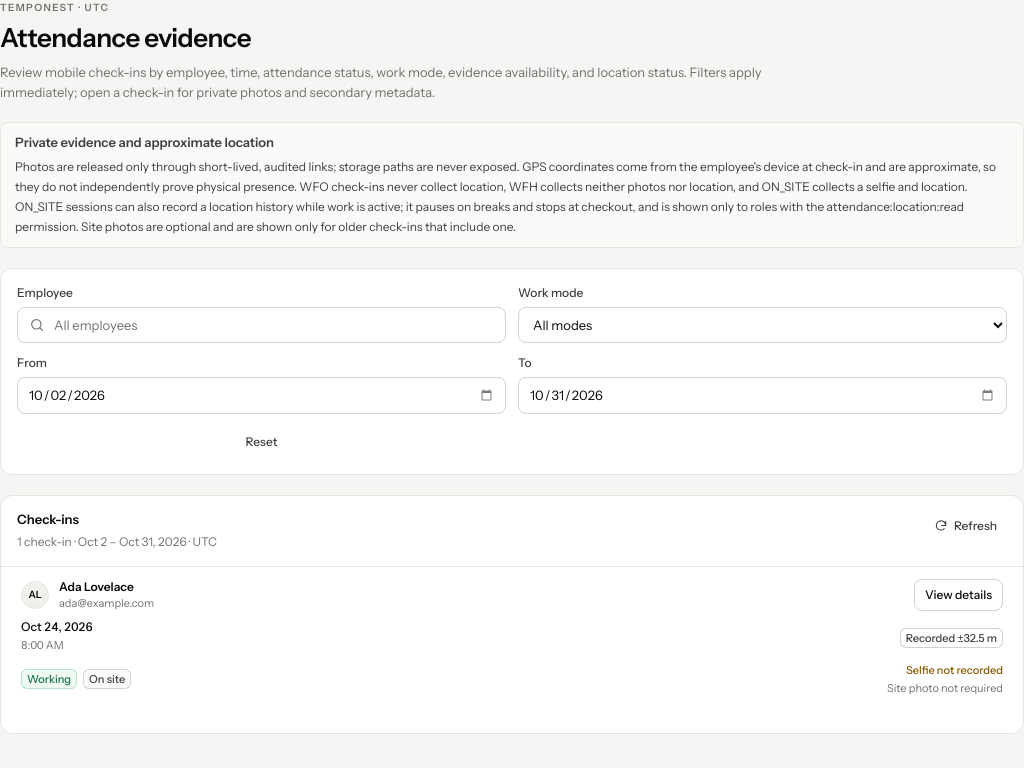
AttendanceEvidenceView › explains missing location history without inventing a position
This screenshot has width=1024, height=768.
Click the button with aria-label "View attendance details for": (958, 595) [914, 579, 1003, 611]
(page scrolled)
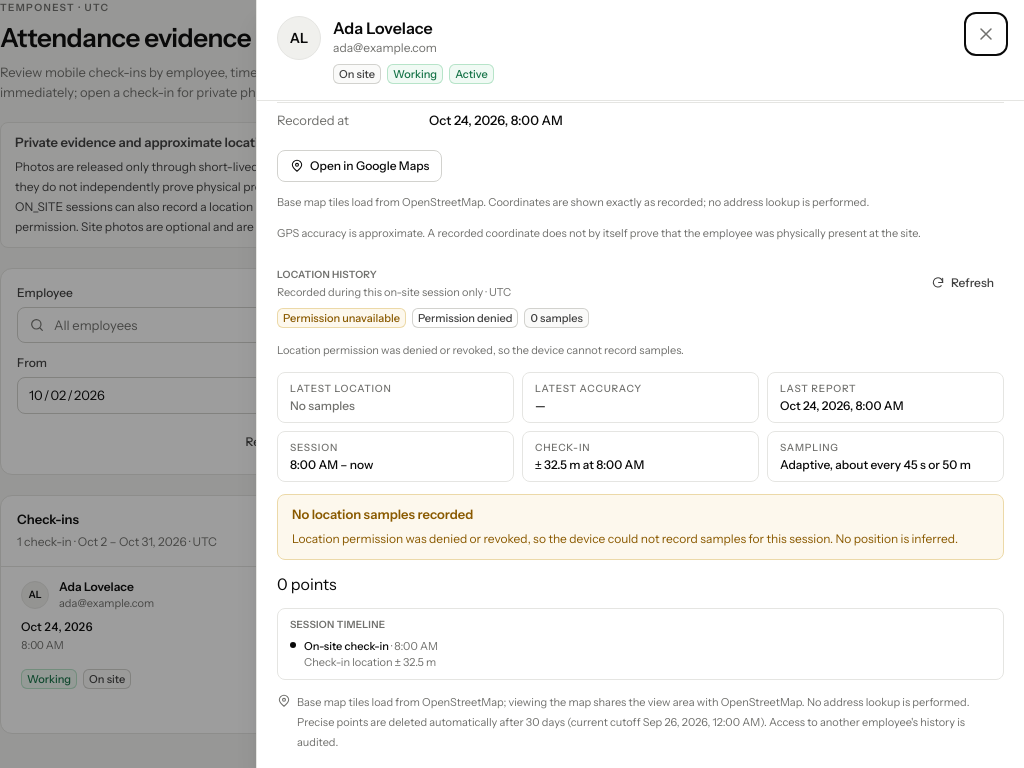
Now the text "No location samples recorded" is shown, box [292, 506, 473, 522]
Now the text "Permission unavailable" is shown, box [277, 308, 406, 328]
Now the text "Permission denied" is shown, box [412, 308, 518, 328]
